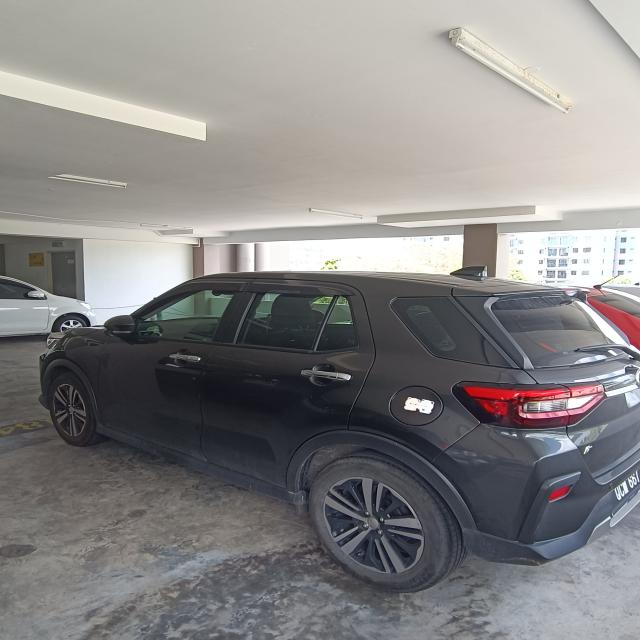PeroduaAtiva: (37, 266, 639, 594)
